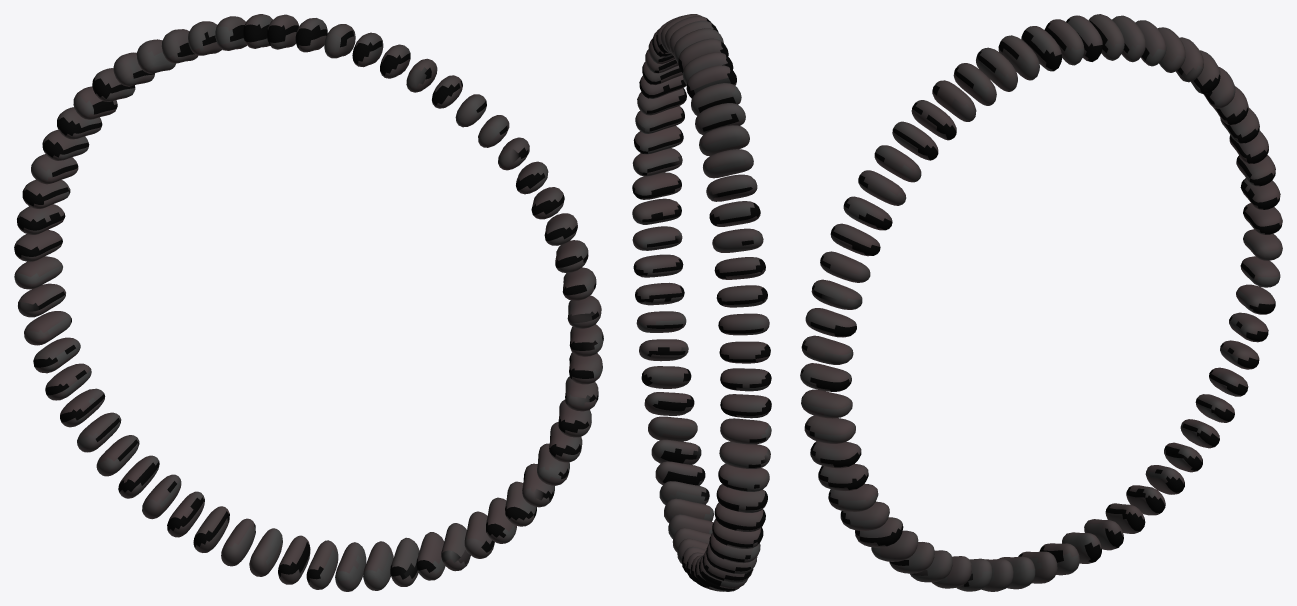
3 views of the same model, side by side, from view 1: azimuth 30°, elevation 25°; view 2: azimuth 150°, elevation 25°; view 3: azimuth 270°, elevation 25° (orthographic). The views are drawn at different scales.
Parts seen in each view (by area): view 1: Cube.008; view 2: Cube.008; view 3: Cube.008.
Boxes of the visible parts, left/top/right/bottom form: Cube.008: left=14, top=14, right=603, bottom=591; Cube.008: left=632, top=14, right=771, bottom=591; Cube.008: left=800, top=14, right=1282, bottom=591.
Size of the model in its own units: 1.23 by 1.82 by 1.45.
Materials: 1 (1 with a texture image).
